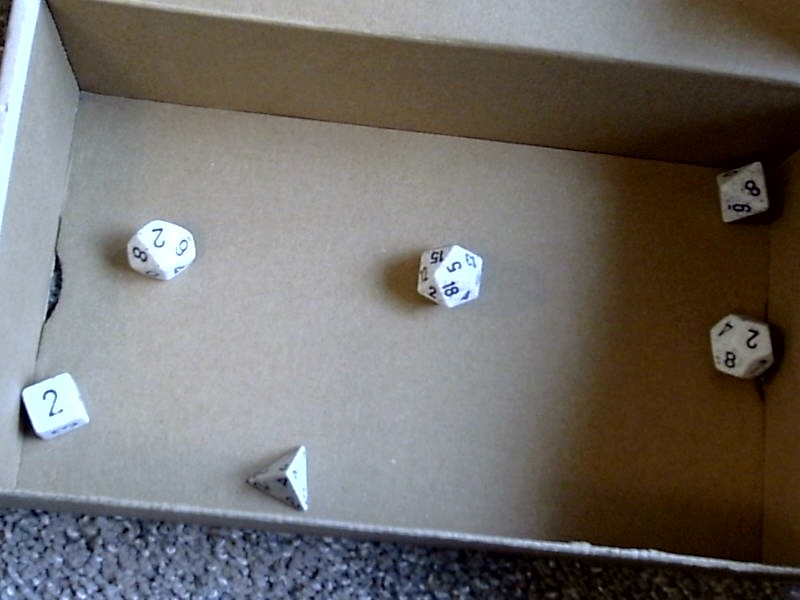d10 2: (116, 213, 199, 284)
d12 2: (702, 308, 784, 387)
d20 5: (409, 236, 489, 310)
d4 4: (241, 440, 317, 515)
d6 2: (15, 368, 94, 447)
d8 8: (708, 156, 777, 227)
